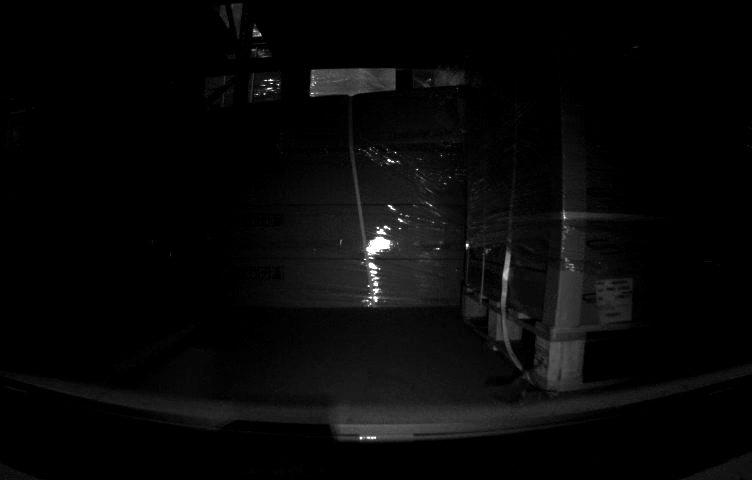True Barcode: (593, 277, 632, 321)
